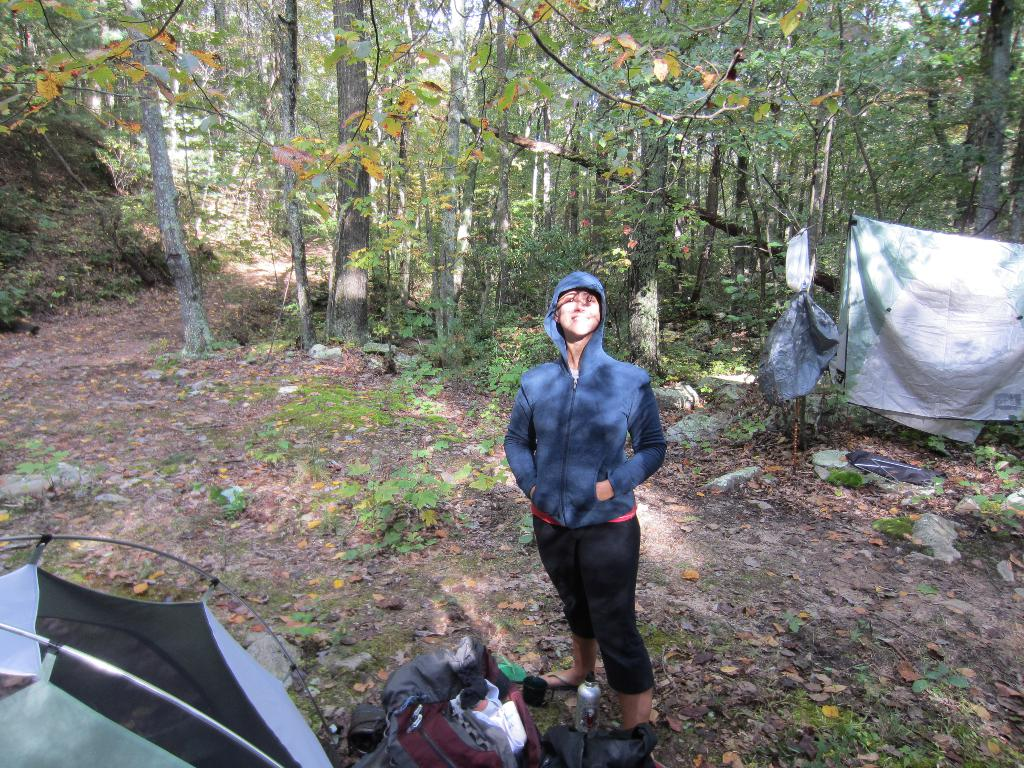Tree: (0, 0, 1023, 410)
